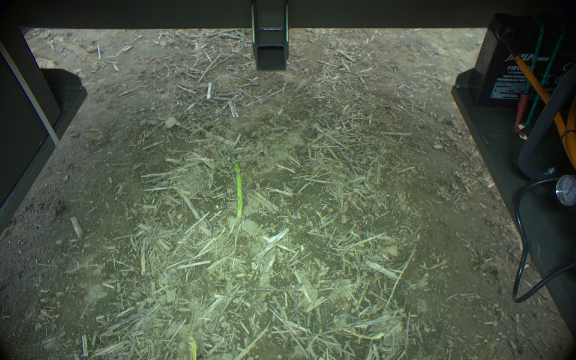aspa: (228, 150, 244, 220), (186, 331, 198, 360)
